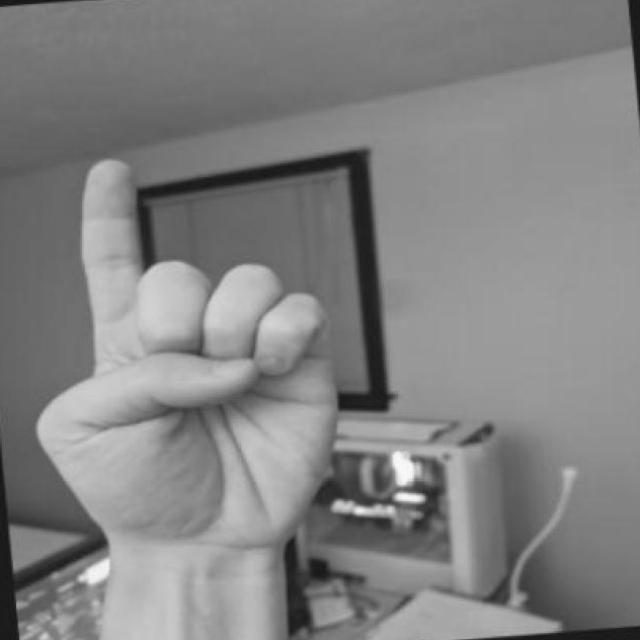D: (23, 145, 356, 574)
